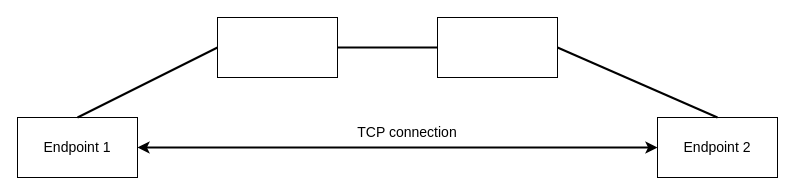
The diagram is 795 pixels wide and 195 high, and some of its shapes have lost their labels. Here are the shapes that lost their labels. From the top down, the centre of each, then its label:
the point at 277,47: Gateway - server
the point at 497,47: Gateway - client
